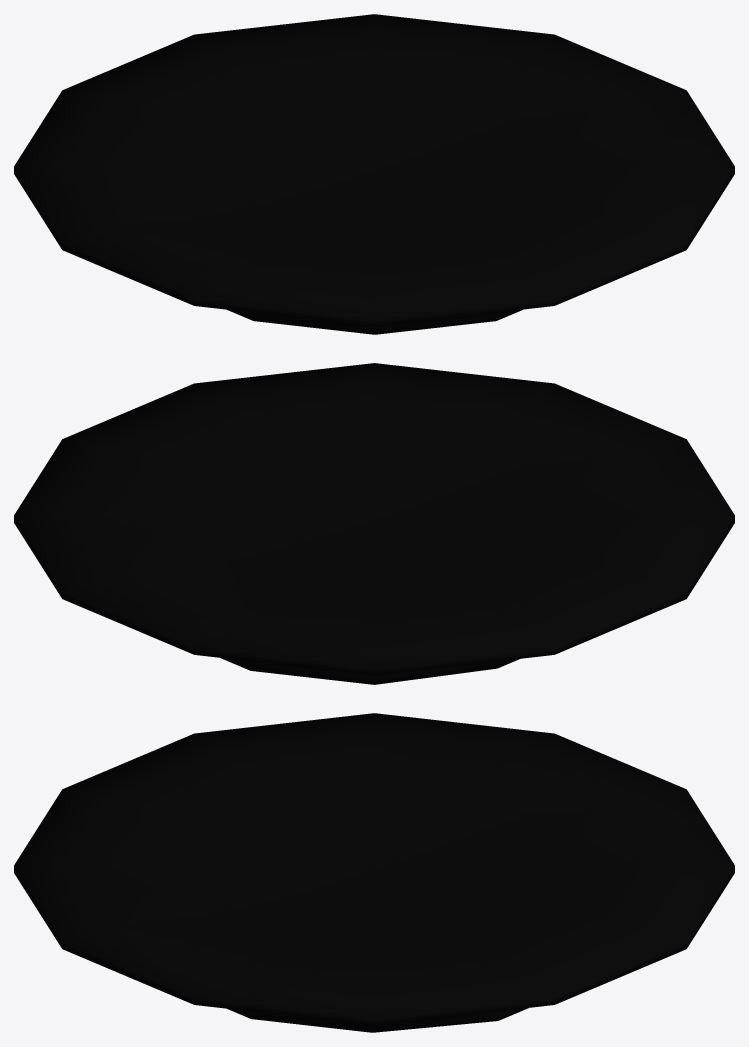
Rendered from Plate.fbx.
3 views of the same model, one above another, from view 1: azimuth 30°, elevation 25°; view 2: azimuth 150°, elevation 25°; view 3: azimuth 270°, elevation 25° (orthographic).
Visible parts, largest first — view 1: お皿; view 2: お皿; view 3: お皿.
Boxes of the visible parts, x1,y1,x2,y2 form: お皿: (14,14,734,334); お皿: (14,363,734,684); お皿: (14,713,734,1032).
Bounding box in the file's own units: 1.66 × 0.1744 × 1.66.
1 material, 1 textured.
